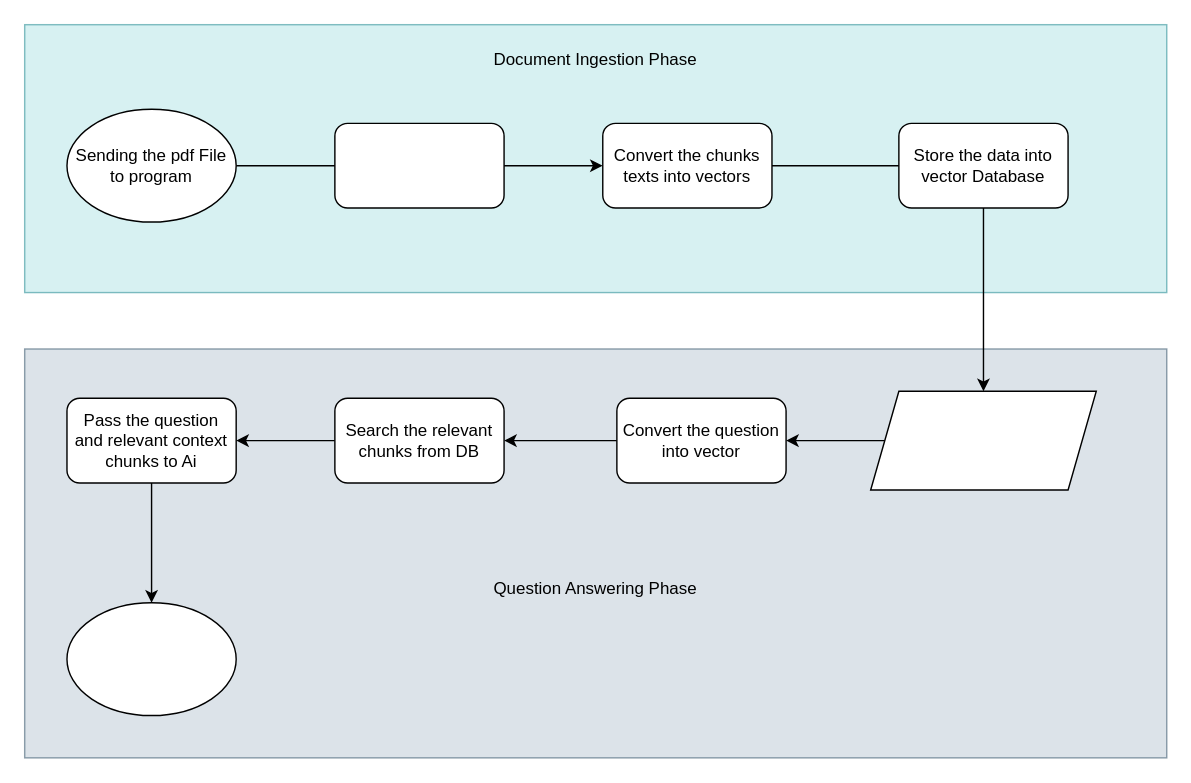
The diagram is 1191 pixels wide and 783 high, and some of its shapes have lost their labels. Here are the shapes that lost their labels. From the top down, the centre of each, then its label:
the point at 418,165: Devide texts chunk by chunk
the point at 982,440: User enters a question
the point at 151,658: The Ai answer the question from relevant context
